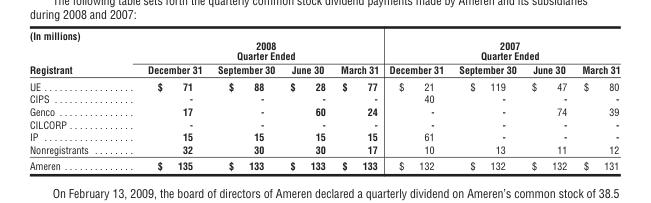table: (28, 29, 619, 171)
table column: (117, 29, 209, 171), (28, 29, 117, 171), (450, 29, 523, 171), (209, 29, 281, 171), (383, 29, 450, 171), (281, 29, 332, 171), (332, 29, 383, 171), (523, 29, 573, 171), (573, 29, 619, 171)
table column header: (28, 29, 619, 77)
table row: (28, 29, 619, 62), (28, 62, 619, 77), (28, 77, 619, 92), (28, 142, 619, 157), (28, 157, 619, 171), (28, 104, 619, 117), (28, 117, 619, 130), (28, 92, 619, 104), (28, 130, 619, 142)
table spanning cell: (117, 29, 383, 62), (383, 29, 619, 62), (28, 29, 117, 77)
